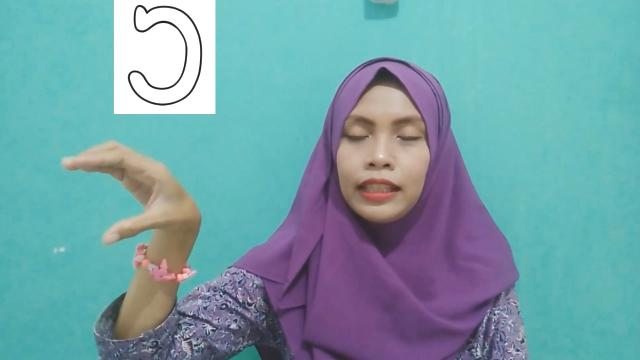C: (60, 138, 202, 248)
